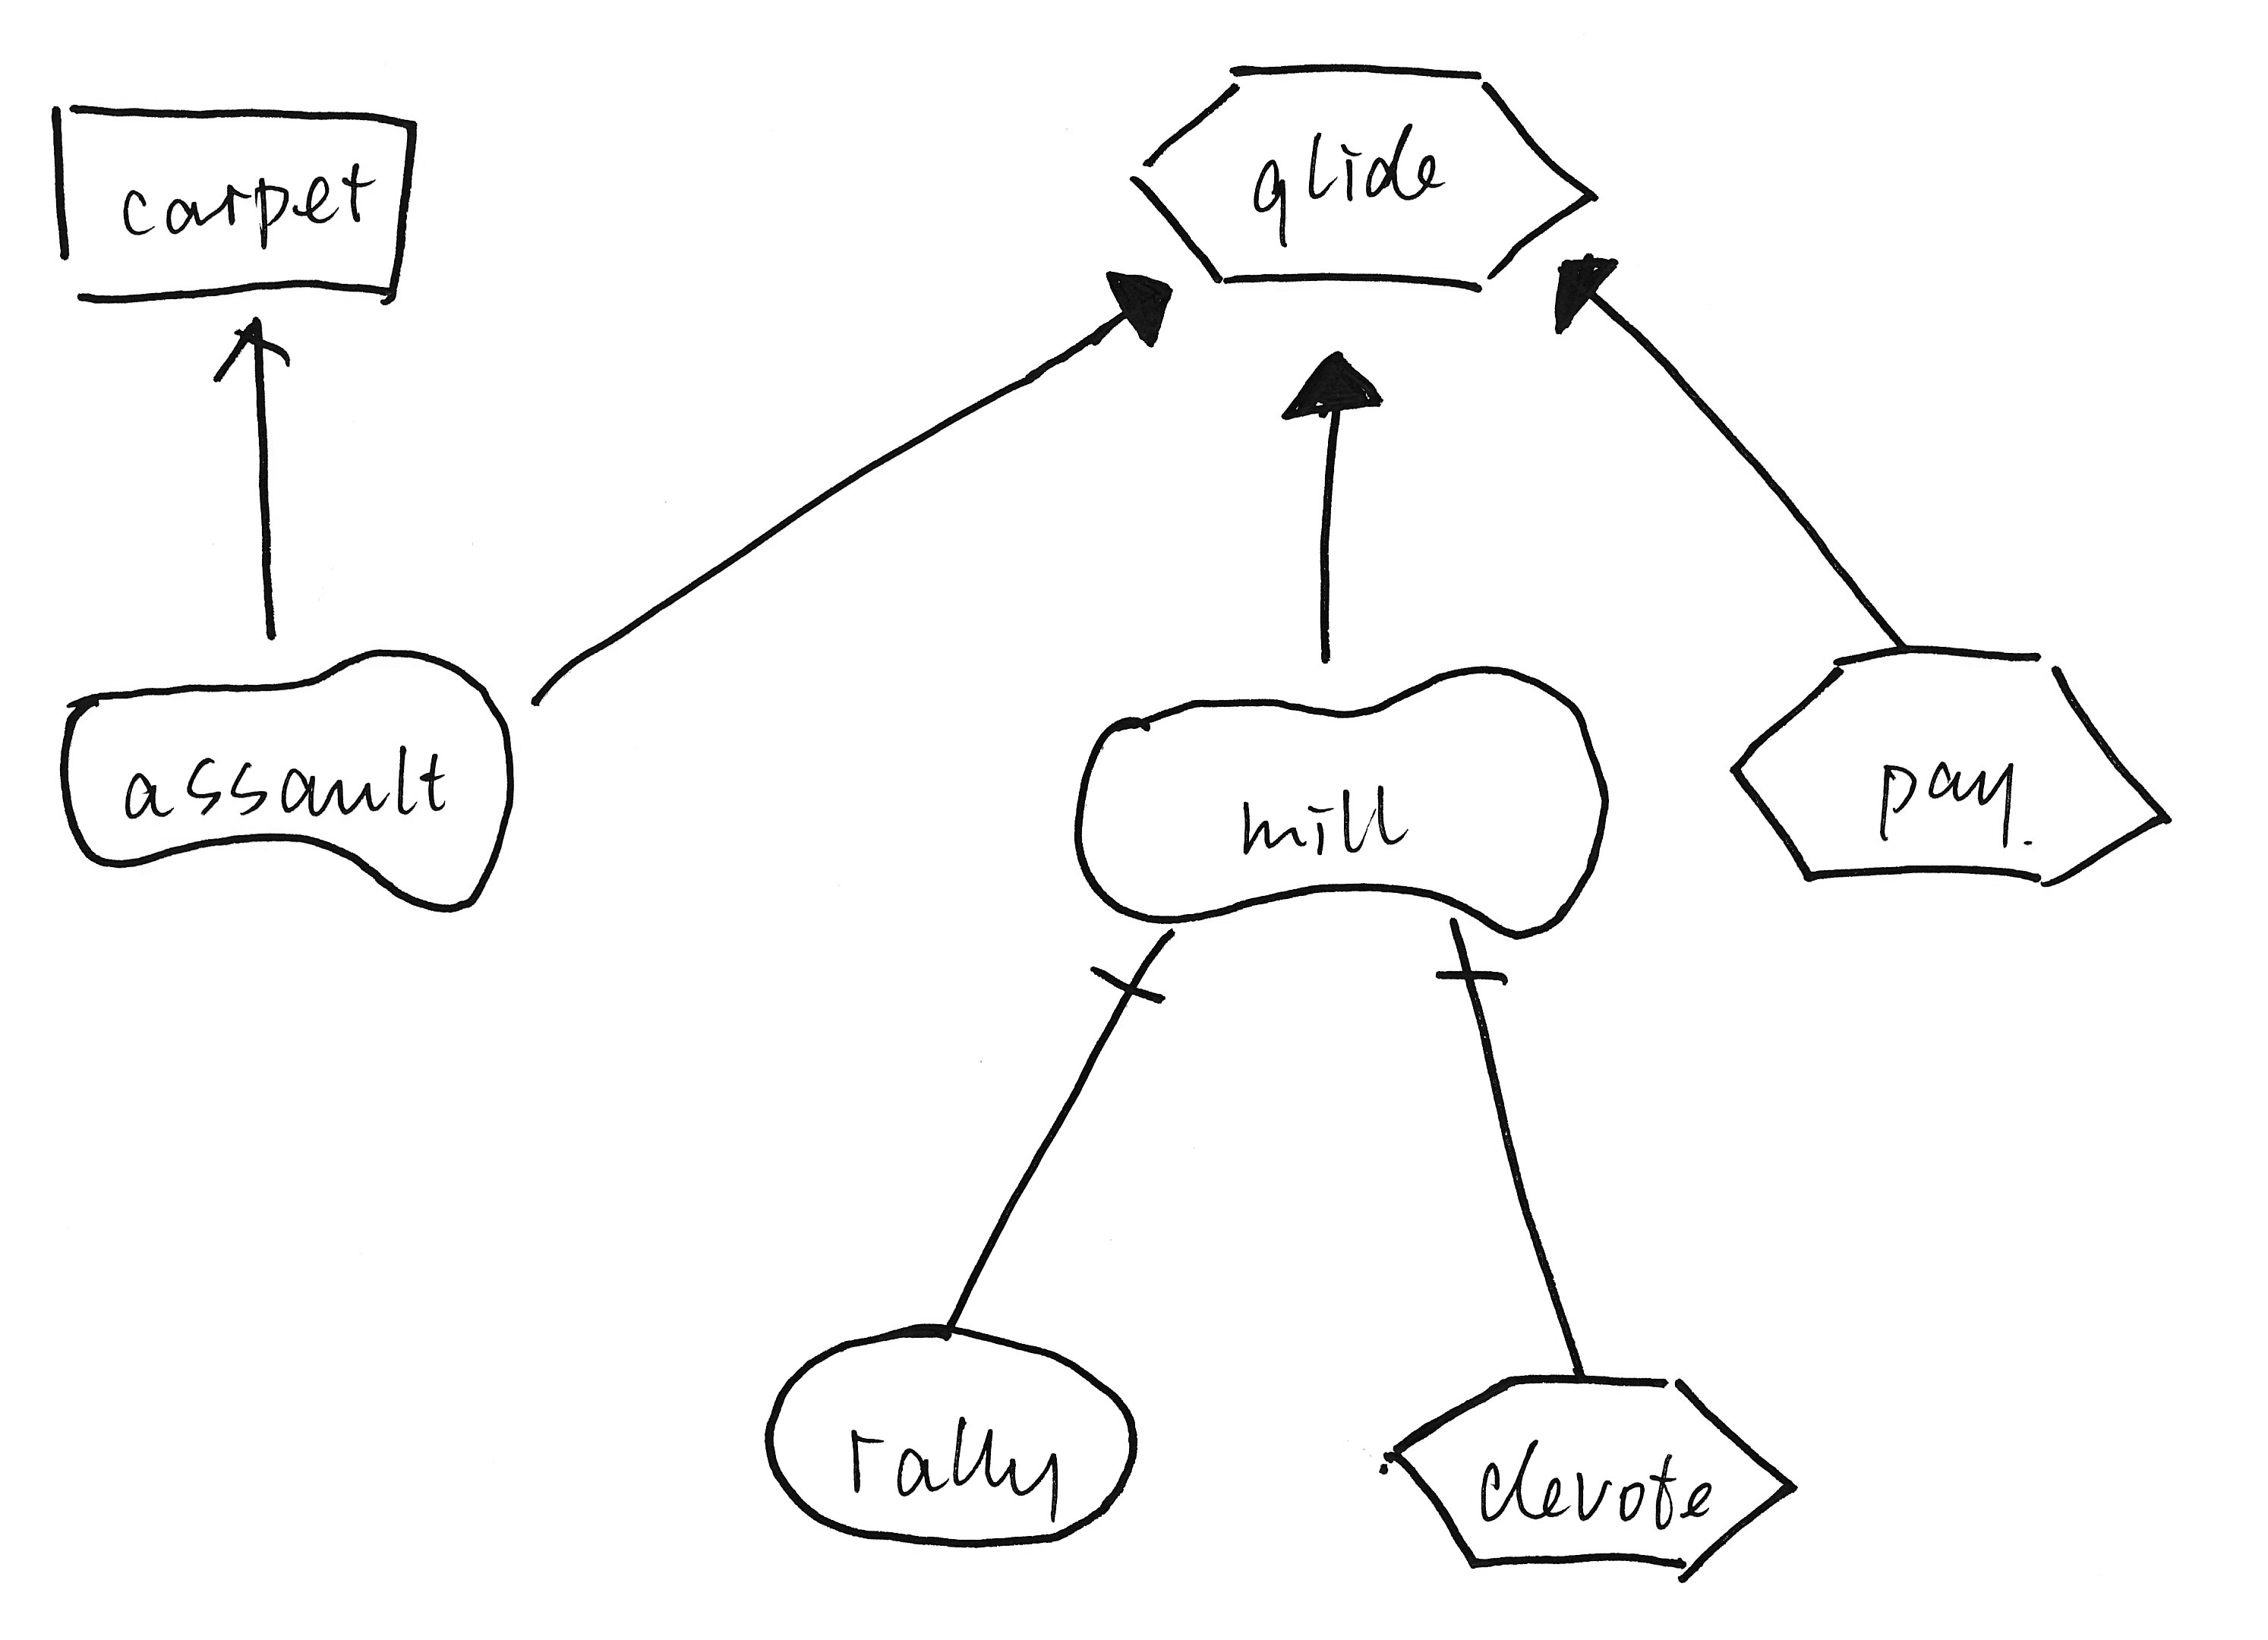and: (1407, 911, 1527, 1023), (1079, 925, 1182, 1039)
arrow: (201, 307, 296, 395)
goal: (752, 1302, 1152, 1562)
or: (1270, 338, 1391, 440), (1097, 254, 1182, 363), (1539, 241, 1625, 342)
quality: (1055, 645, 1625, 955), (42, 629, 530, 930)
resource: (32, 81, 430, 317)
task: (1109, 28, 1611, 308), (1717, 631, 2187, 900), (1366, 1356, 1815, 1596)
